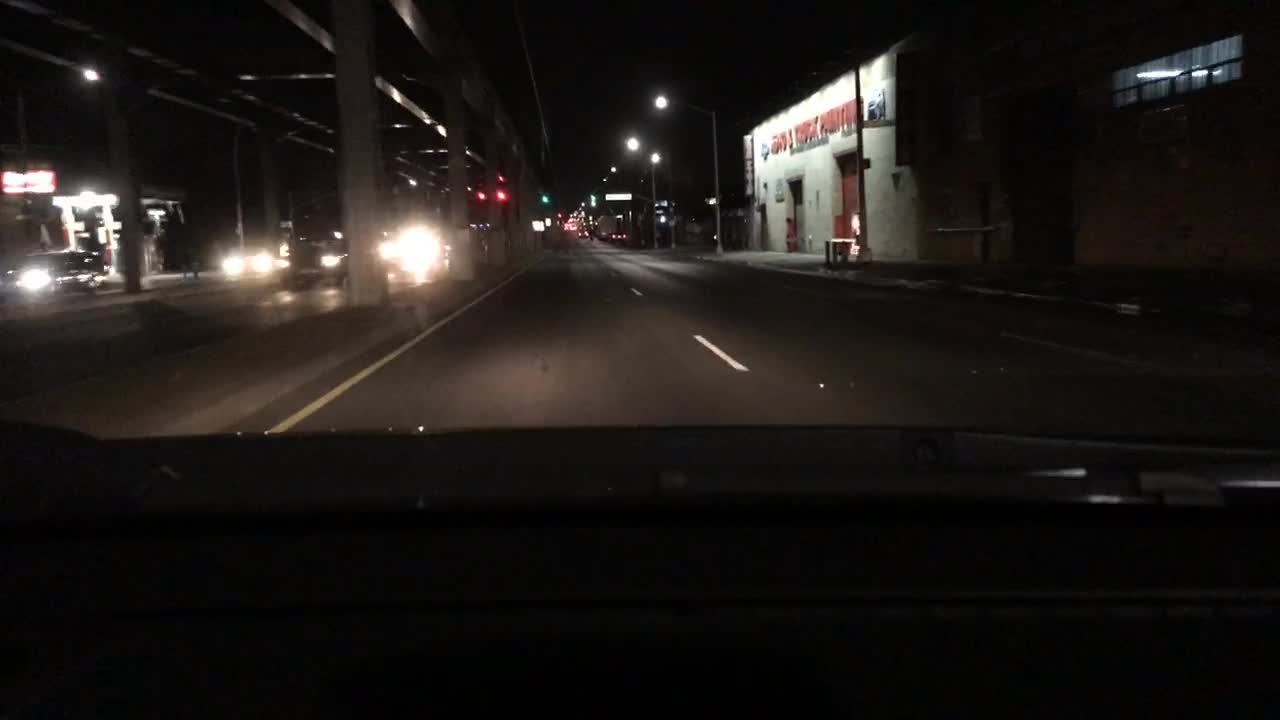car: (2, 248, 104, 299), (382, 234, 434, 279), (218, 236, 273, 278), (610, 234, 625, 247)
traffic light: (475, 189, 483, 205), (496, 192, 505, 204), (541, 192, 547, 204)
traffic sign: (604, 190, 629, 201), (531, 220, 544, 232), (652, 199, 668, 207), (706, 193, 715, 207), (652, 207, 664, 217), (659, 214, 667, 226)
truck: (286, 193, 352, 285), (595, 213, 619, 238)
